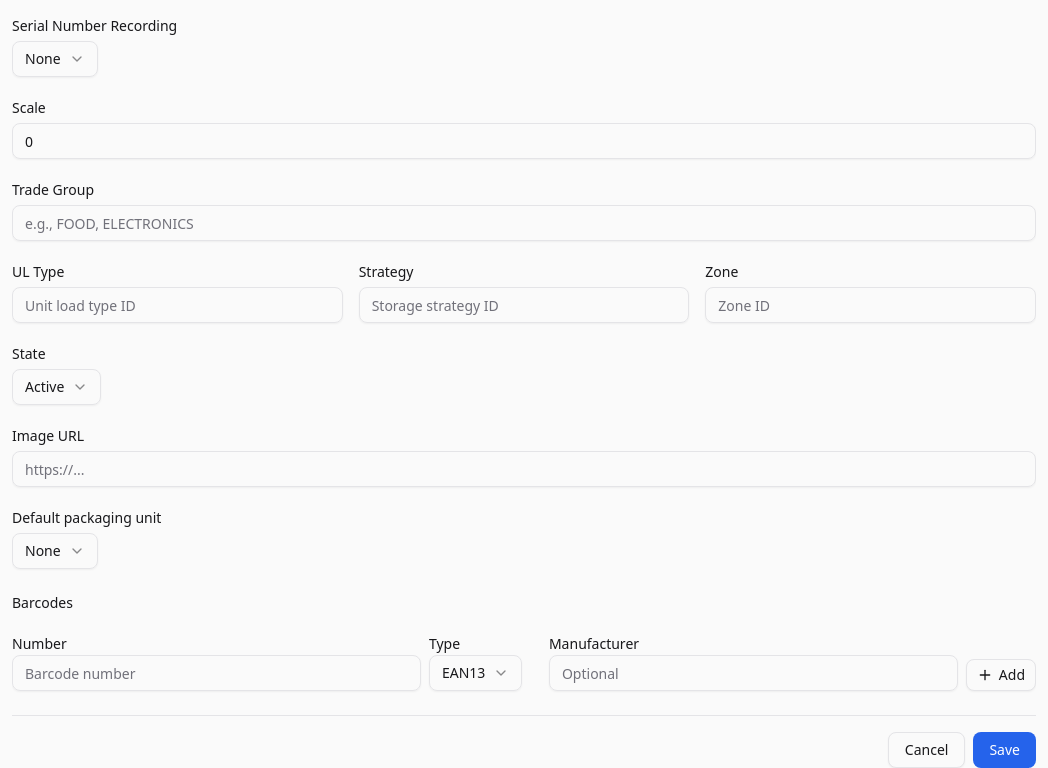
Test: ProductForm › offers default packaging unit only in edit mode, from the product's own units
(page scrolled)
Click the dropdown named "Default packaging unit". click: (55,551)
box: [12,533,98,569]
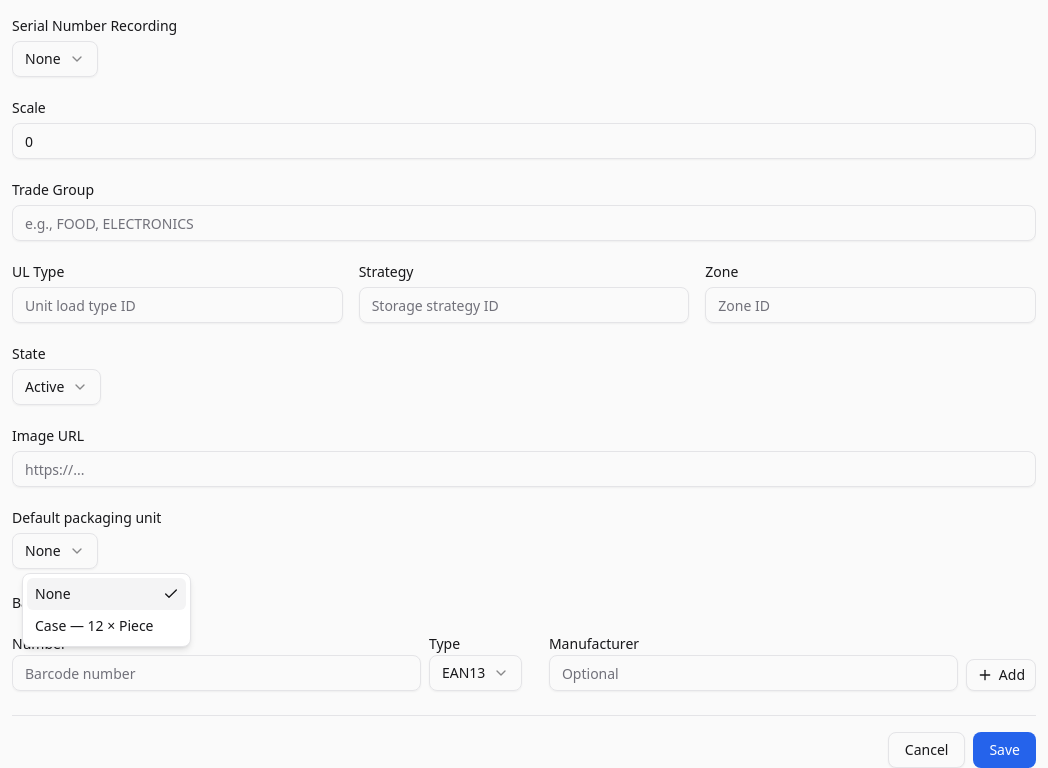
expect the text "Case — 12 × Piece" is shown: met, box [35,616,154,636]
